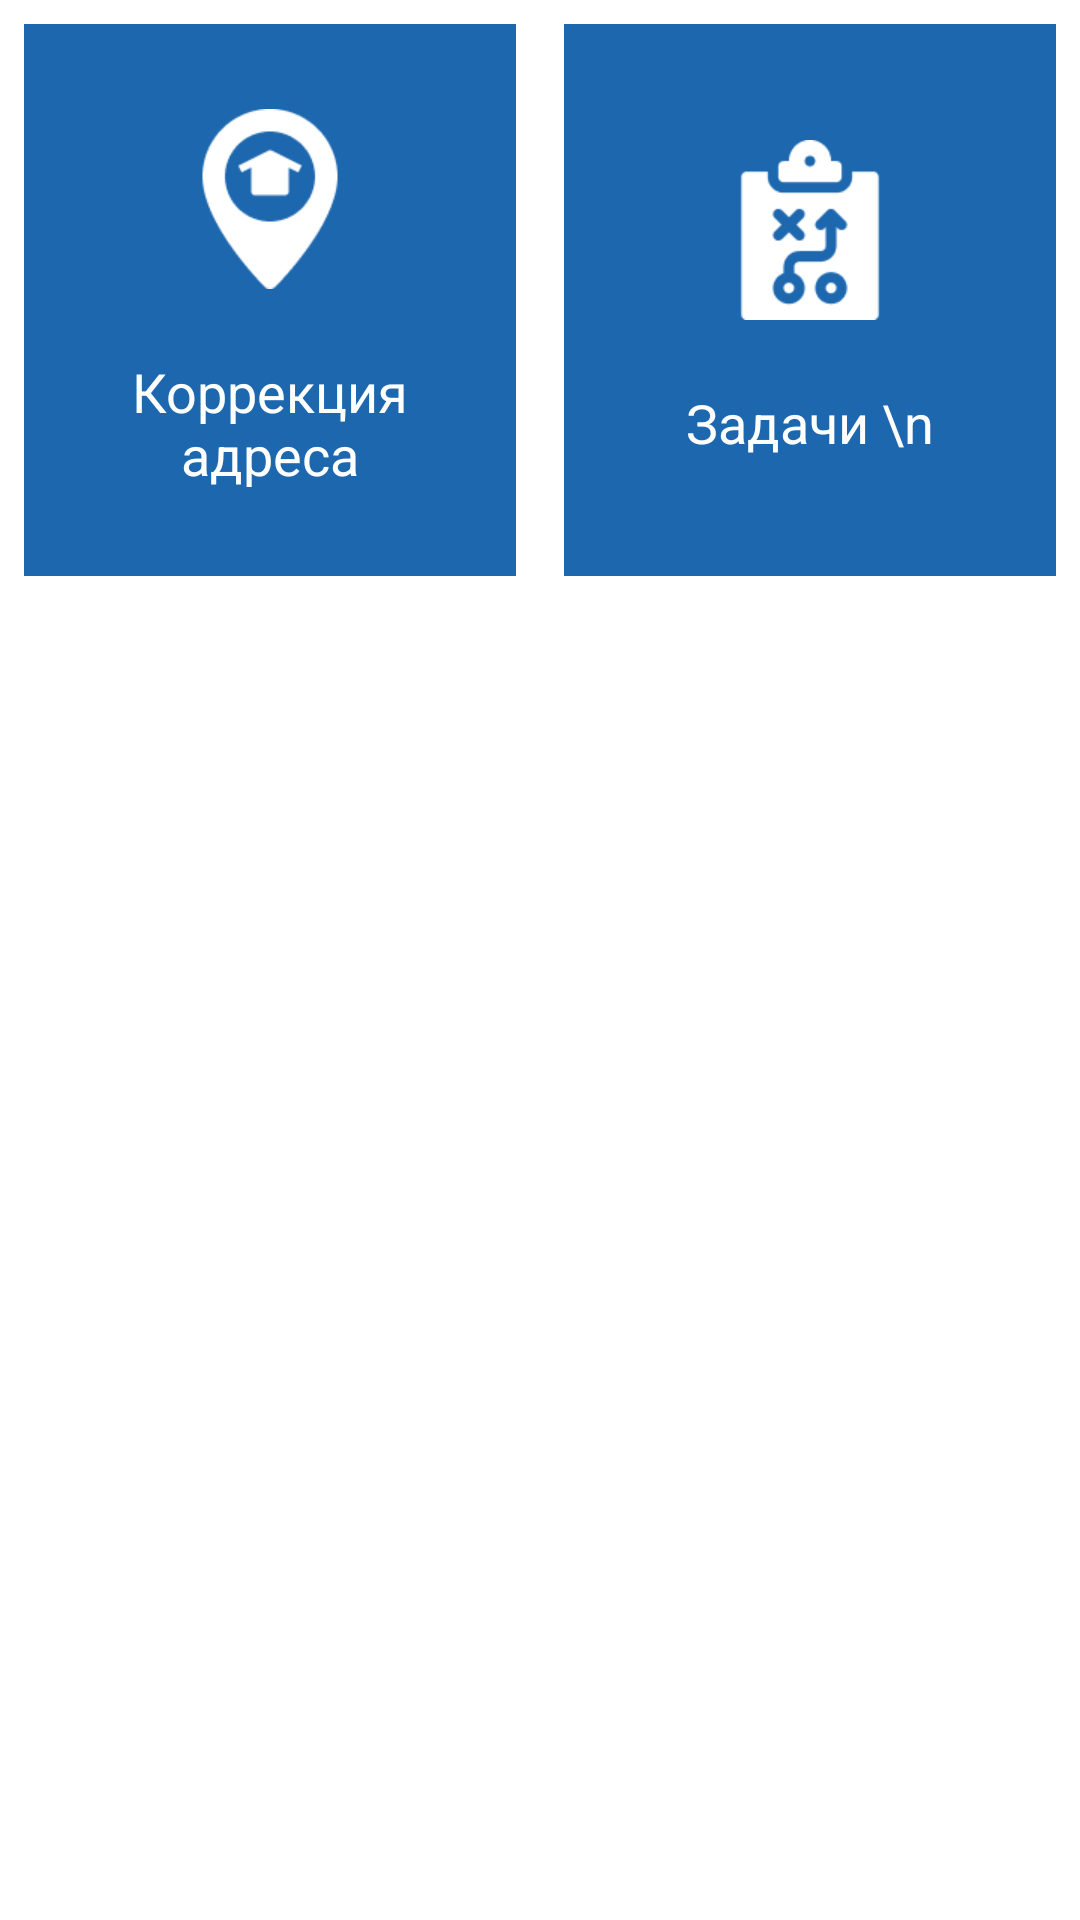

Screen size 1080px x 1920px. Icon name, then its box in pixels as (left=x1, top=y1, right=x2, bottom=y2):
addresses: (left=202, top=109, right=338, bottom=289)
tasks: (left=740, top=140, right=880, bottom=320)
